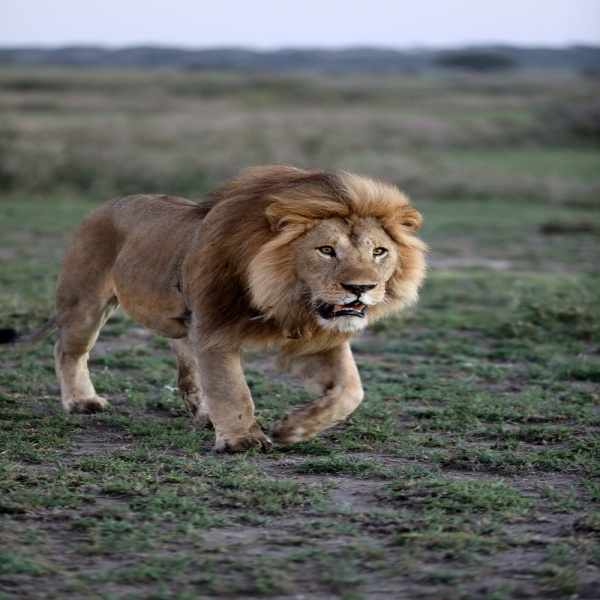Lion: (52, 164, 435, 459)
